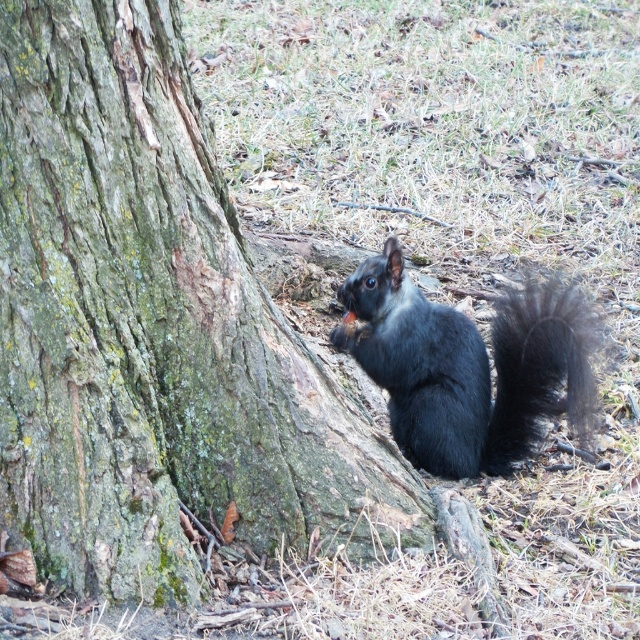Squirrel: (329, 235, 618, 481)
